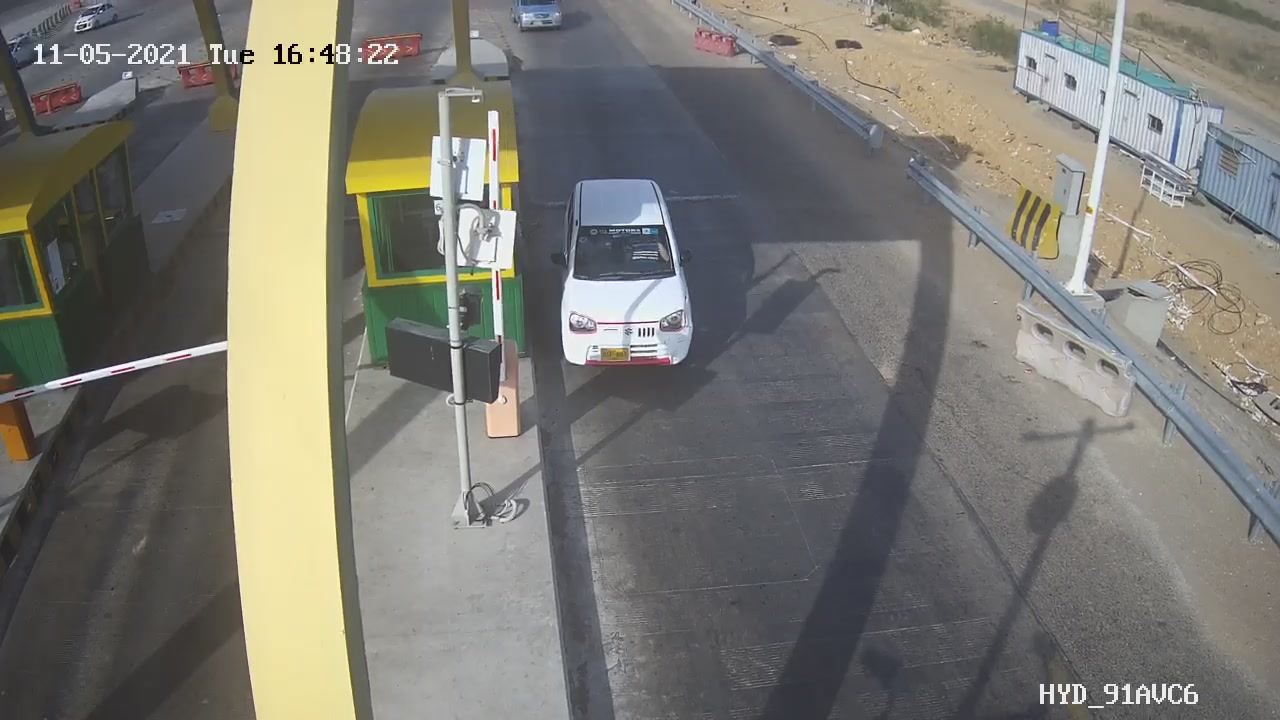F1: (542, 161, 712, 387)
